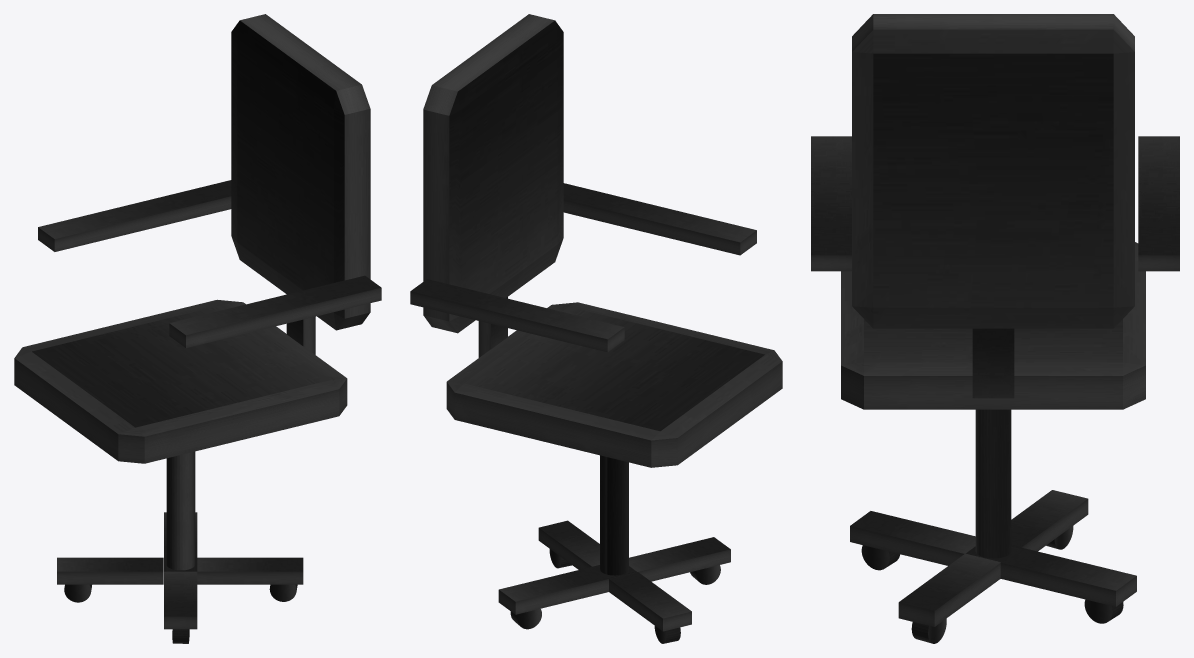
The model's file is Silla1.fbx.
3 renders of one model, left to right at view 1: azimuth 30°, elevation 25°; view 2: azimuth 150°, elevation 25°; view 3: azimuth 270°, elevation 25°, orthographic. The views are drawn at different scales.
Parts seen in each view (by area): view 1: Cube.004; view 2: Cube.004; view 3: Cube.004.
Boxes of the visible parts, bbox=[...] form: Cube.004: bbox=[14, 14, 381, 643]; Cube.004: bbox=[410, 14, 782, 643]; Cube.004: bbox=[811, 14, 1179, 643].
Bounding box in the file's own units: 218 × 431 × 224.
15 materials, 15 textured.
